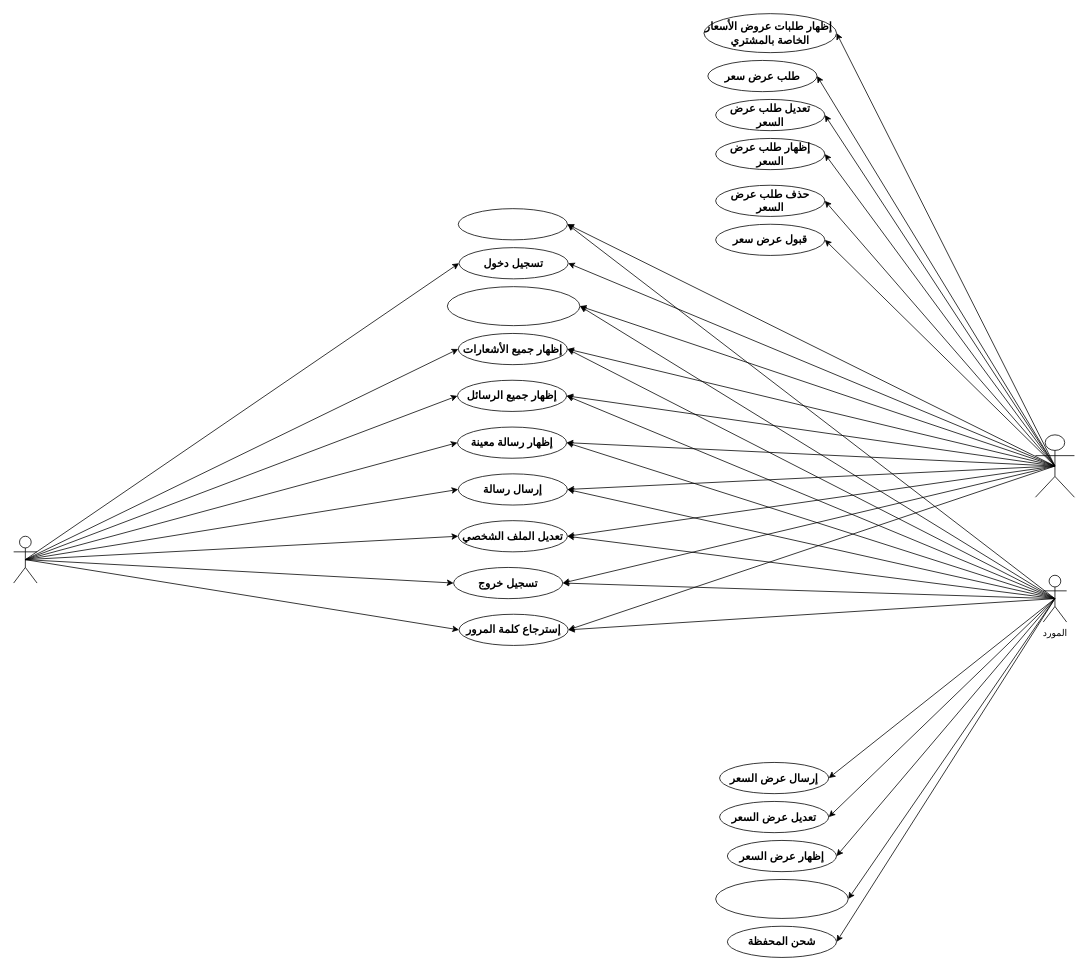
This 1088x971 diagram has some shape labels left out. The shapes that lost their labels are listed below. From the top down, each one's centre as x and y in pixels, then its label:
At [512,224]: "إنشاء حساب".
At [513,306]: "إظهار جميع طلبات عروض الأسعار".
At [1054,465]: "المشتري".
At [25,559]: "الأدمن".
At [781,898]: "إظهار عروض الأسعار الخاصة بالمورد".
